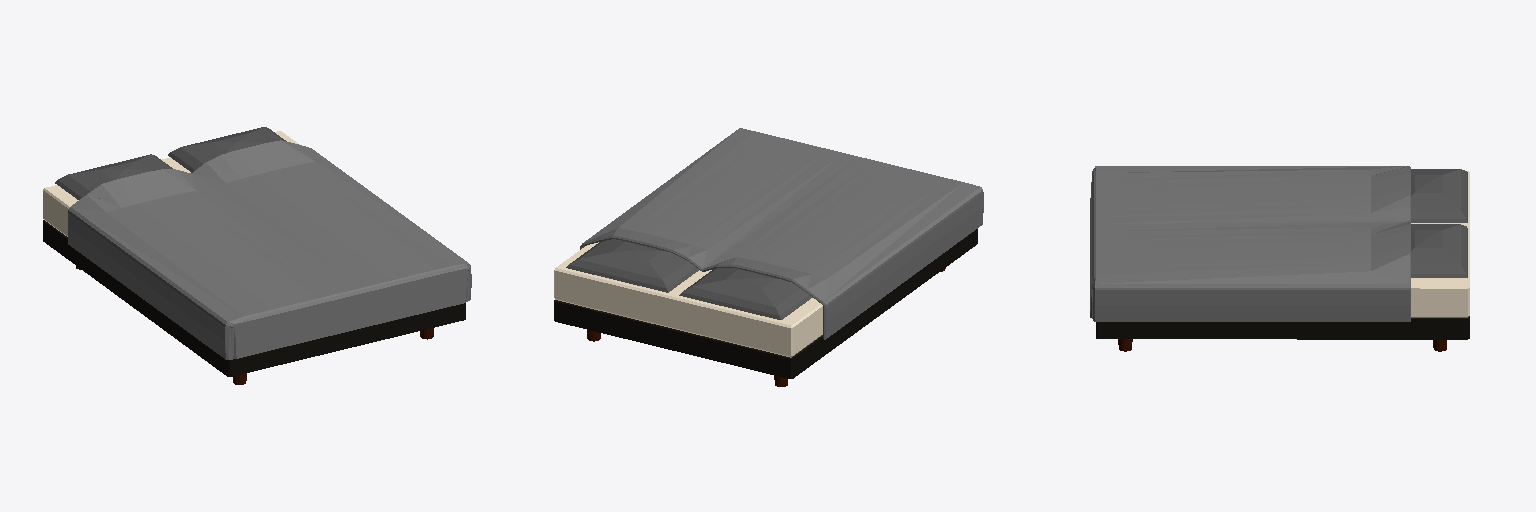
3 renders of one model, left to right at view 1: azimuth 30°, elevation 25°; view 2: azimuth 150°, elevation 25°; view 3: azimuth 270°, elevation 25°, orthographic.
Visible parts, largest first — view 1: 1, 5, 2, 3, Matress_Cube_6; view 2: 1, Matress_Cube_6, 5, 2, 3; view 3: 1, 5, 3, 2, Matress_Cube_6.
Part boxes in pixels (x1,y1,x2,y2): 1: (68,140,471,359); 5: (43,220,465,376); 2: (168,127,286,172); 3: (55,154,172,199); Matress_Cube_6: (43,131,299,236); 1: (580,128,983,339); Matress_Cube_6: (554,242,822,357); 5: (554,229,977,378); 2: (566,239,698,292); 3: (679,268,812,319); 1: (1090,166,1410,321); 5: (1096,316,1469,339); 3: (1411,169,1467,222); 2: (1411,224,1467,277); Matress_Cube_6: (1411,171,1469,317).
Size of the model in its own units: 145 by 52.78 by 193.